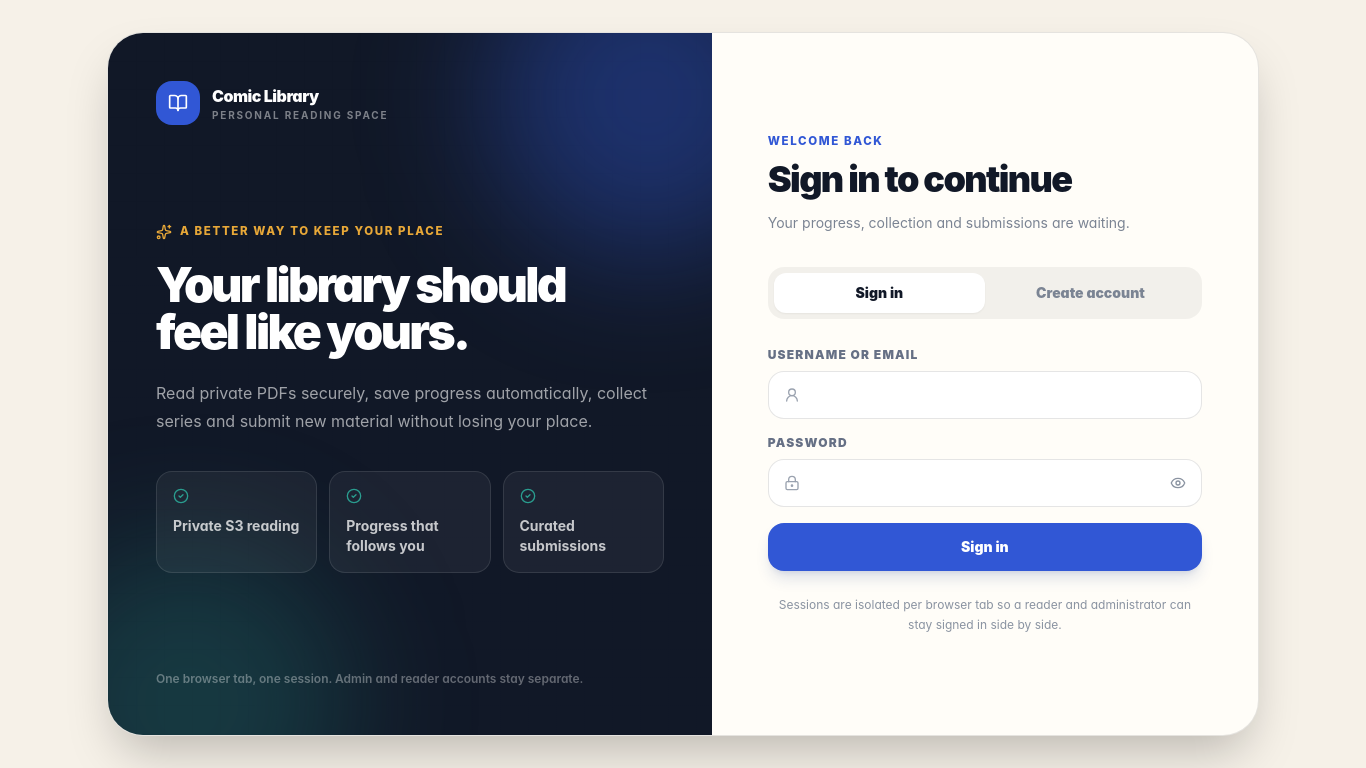
Scenario: Login page › displays an API login error
Type "nadav" into the field labelled "Username or email" at (985, 395), box [768, 371, 1202, 419]
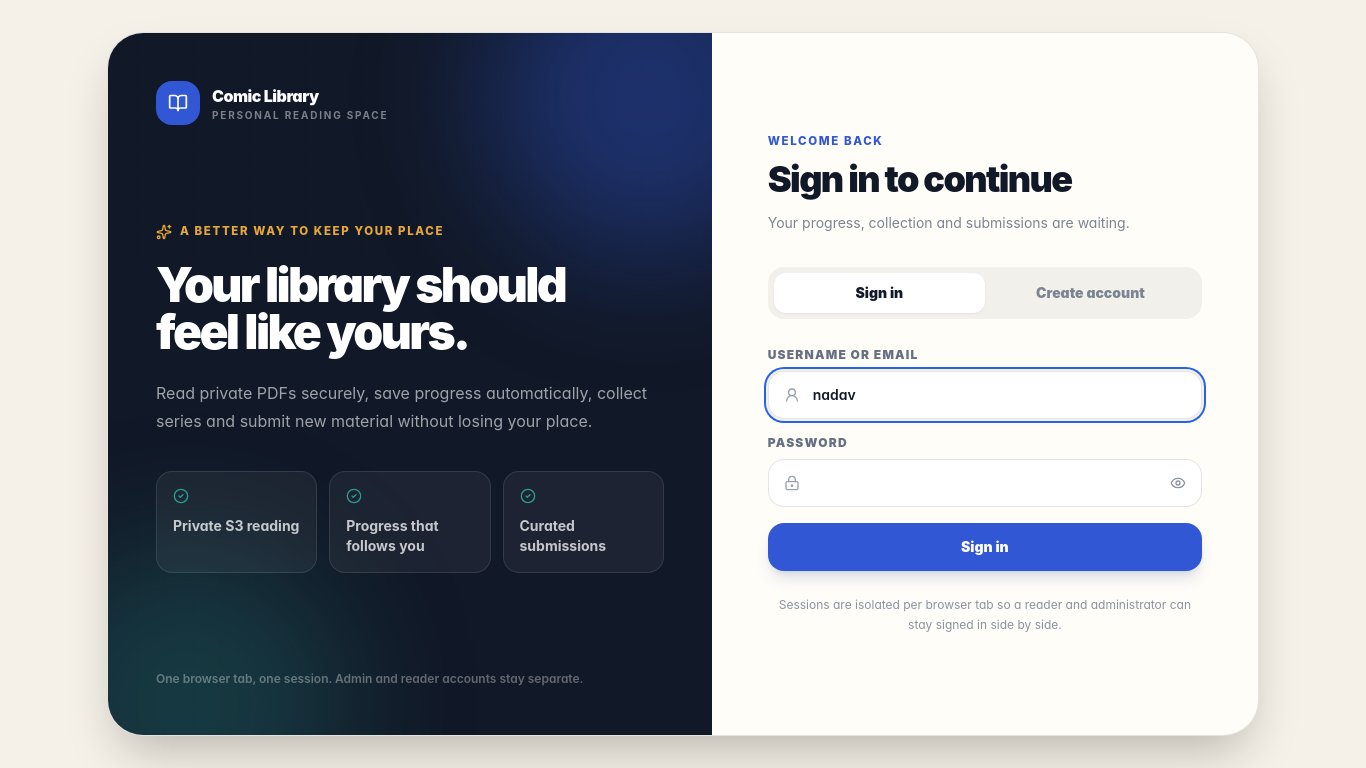
Type "wrong-password" into the password field labelled "Password" at (985, 483), box [768, 459, 1202, 507]
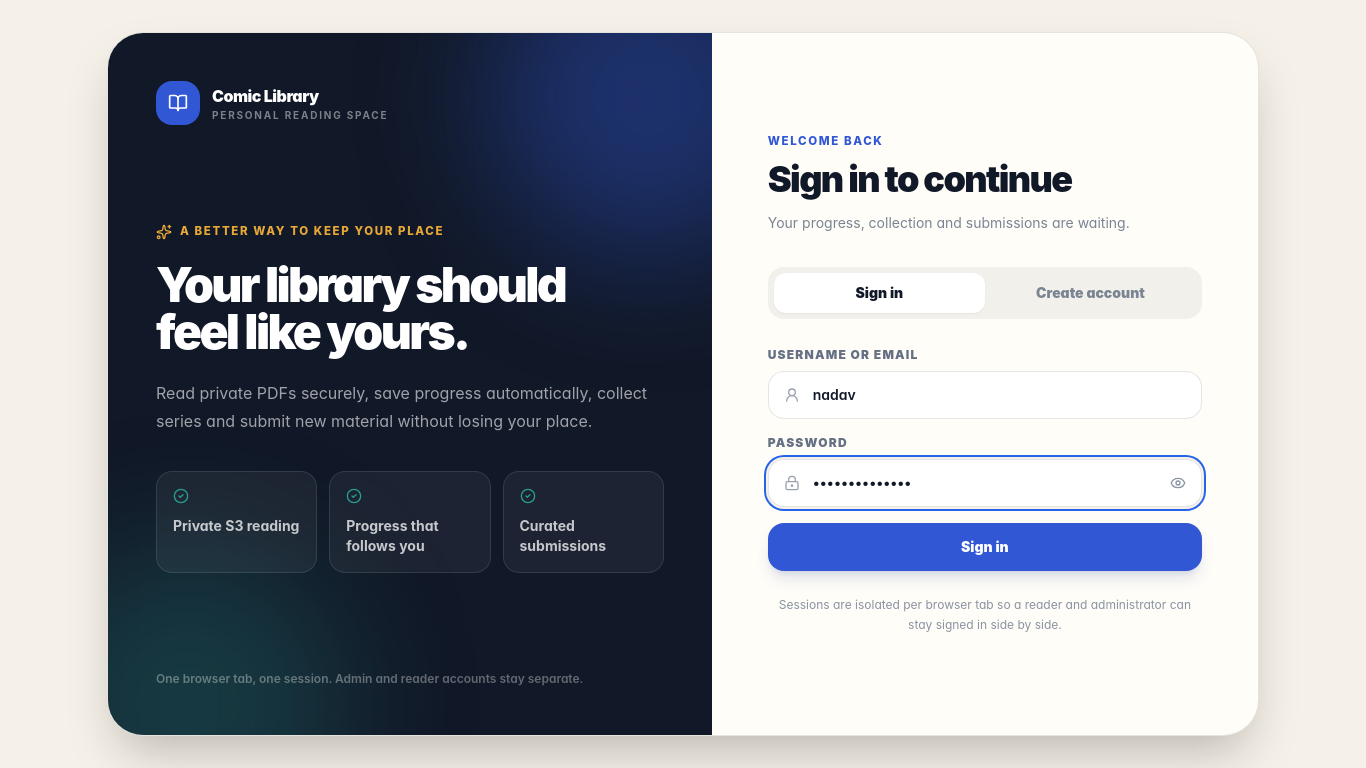
Click the button "Sign in" below "Password" at (985, 547), box [768, 523, 1202, 571]
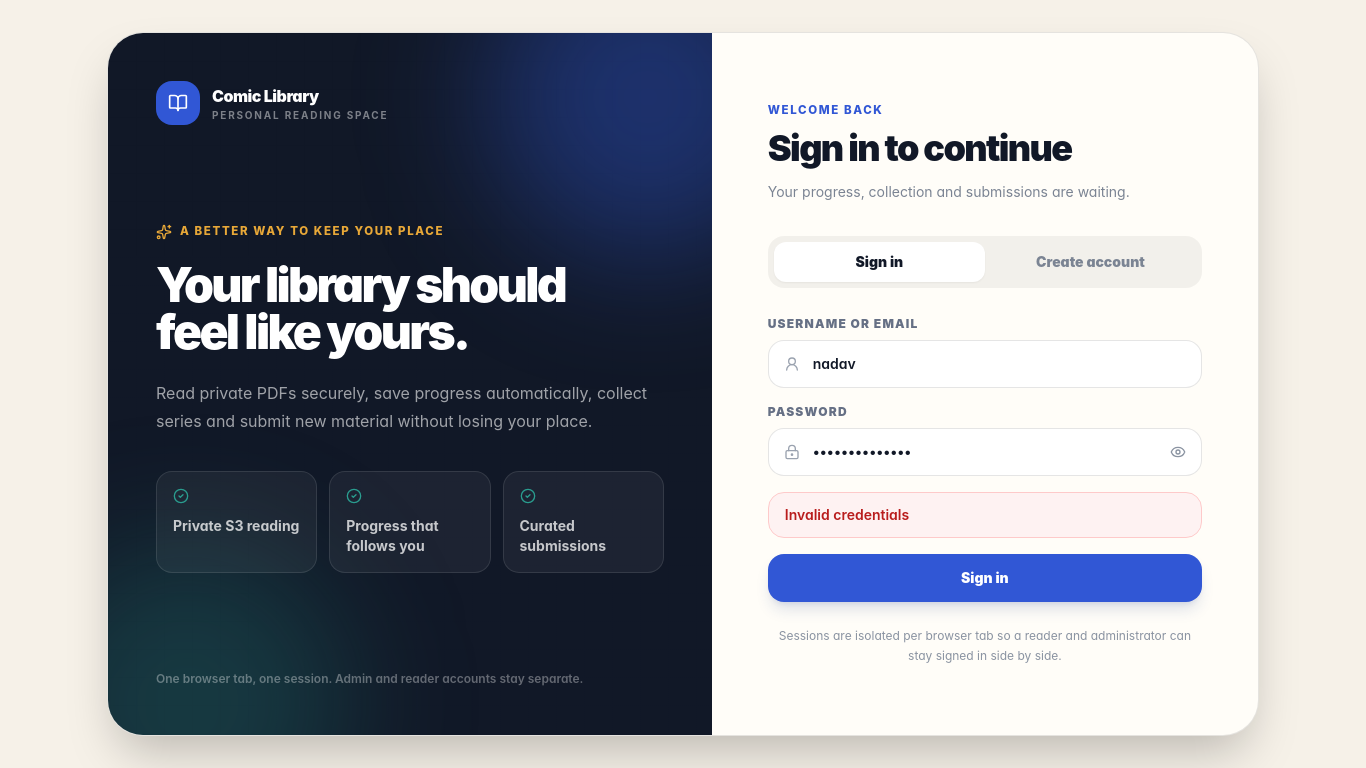
Expected: the text "Invalid credentials" is shown, [768, 492, 1202, 538]
